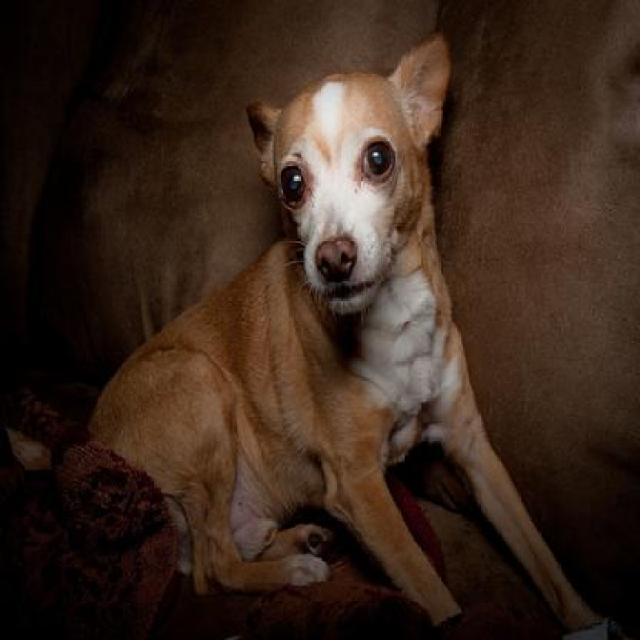Dog: (3, 31, 629, 638)
